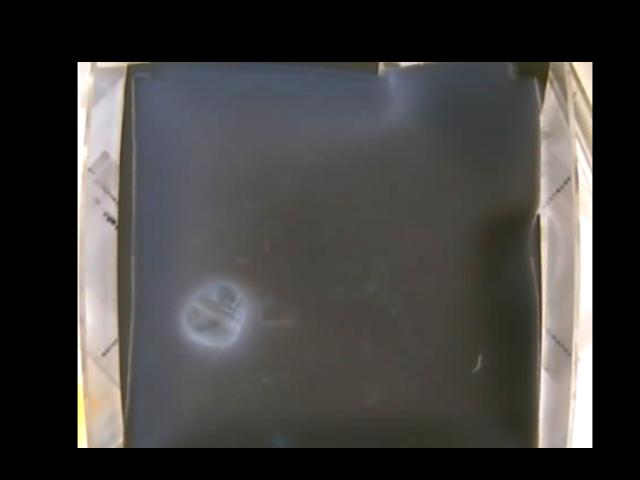Pebble: (182, 281, 246, 346)
